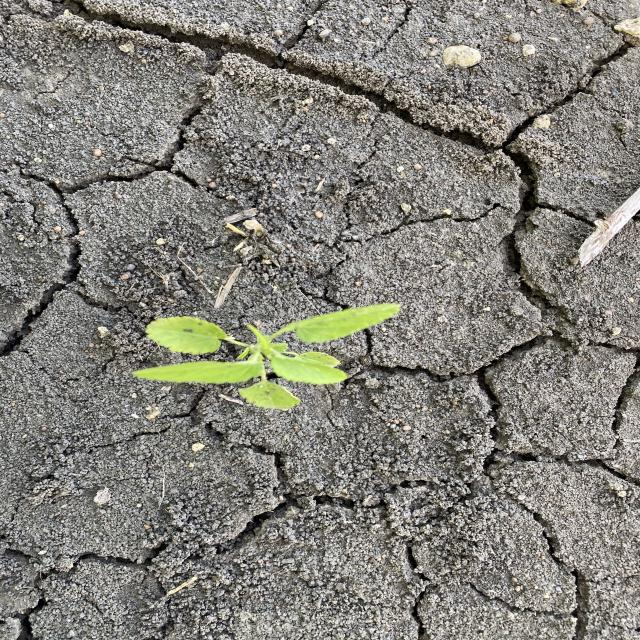PricklySida: (128, 302, 404, 413)
